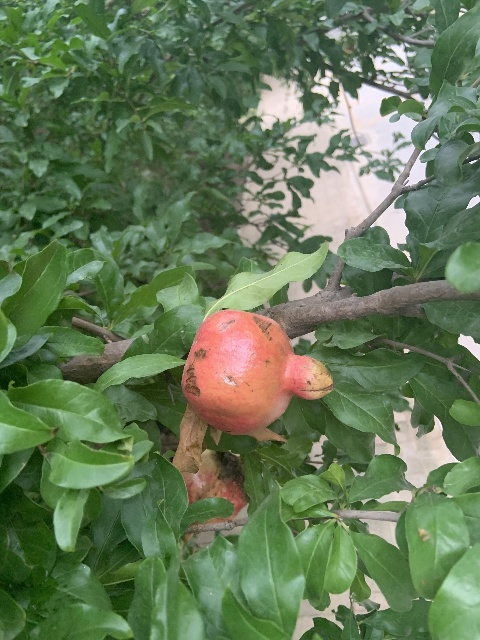ripe: (180, 309, 333, 435)
